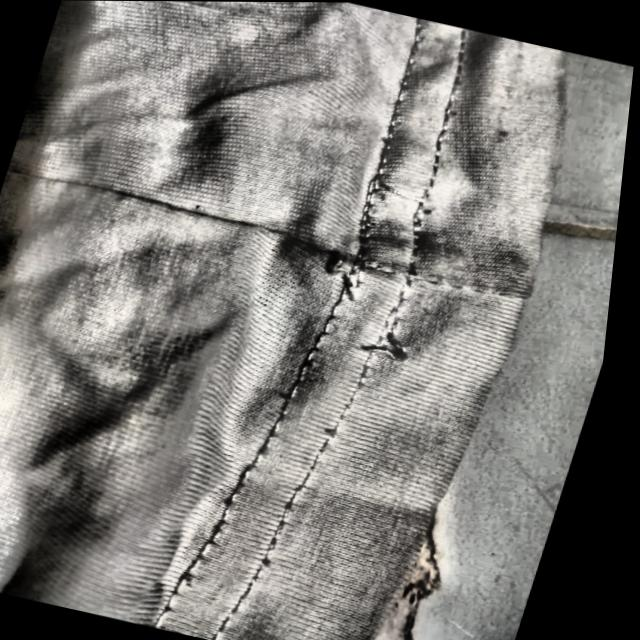Stitch: (339, 292, 460, 410), (283, 215, 387, 291)
